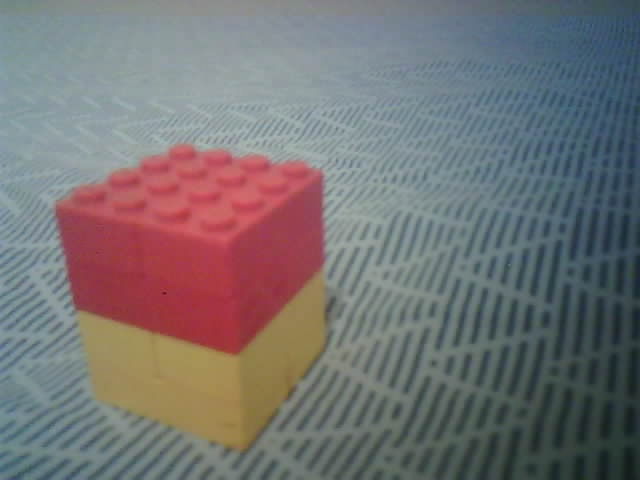lego: (53, 142, 329, 453)
